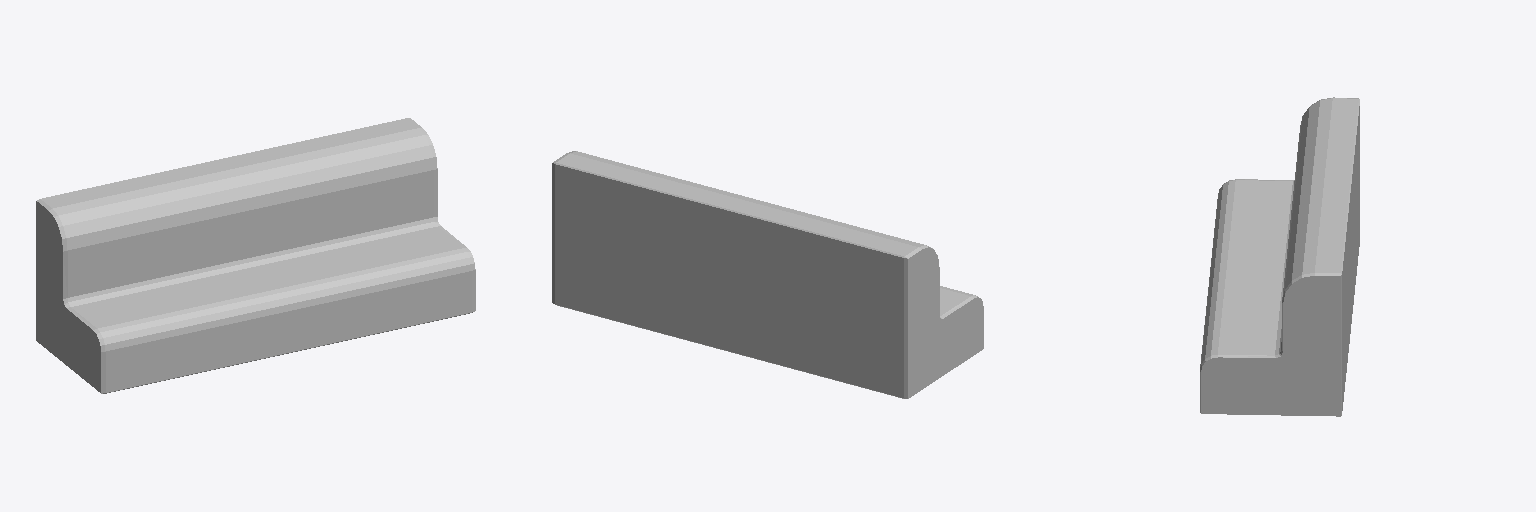
Rendered from seat_6.obj.
3 views of the same model, side by side, from view 1: azimuth 30°, elevation 25°; view 2: azimuth 150°, elevation 25°; view 3: azimuth 270°, elevation 25° (orthographic).
Parts seen in each view (by area): view 1: Cadeira1.005_Cube.005; view 2: Cadeira1.005_Cube.005; view 3: Cadeira1.005_Cube.005.
Boxes of the visible parts, box(x1,y1,x2,y2) form: Cadeira1.005_Cube.005: box(36, 118, 475, 393); Cadeira1.005_Cube.005: box(552, 151, 983, 398); Cadeira1.005_Cube.005: box(1200, 97, 1359, 416).
Size of the model in its own units: 3.28 by 1.2 by 1.23.